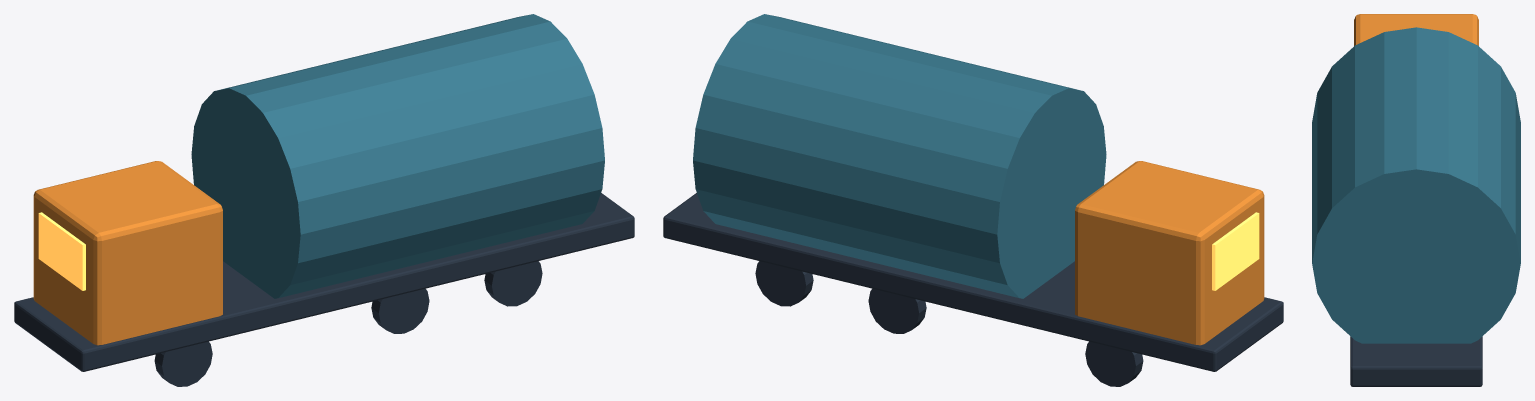
The model's file is bulk-truck-high.glb.
The picture shows the model from 3 angles, left to right: view 1: azimuth 30°, elevation 25°; view 2: azimuth 150°, elevation 25°; view 3: azimuth 270°, elevation 25°; orthographic projection. The views are drawn at different scales.
Parts seen in each view (by area): view 1: bulk_container, bulk_truck_cab, bulk_truck_frame, bulk_truck_windshield, bulk_truck_wheel.004, bulk_truck_wheel, bulk_truck_wheel.002; view 2: bulk_container, bulk_truck_cab, bulk_truck_frame, bulk_truck_windshield, bulk_truck_wheel.005, bulk_truck_wheel.001, bulk_truck_wheel.003; view 3: bulk_container, bulk_truck_frame, bulk_truck_cab.
Part boxes in pixels (x1,y1,x2,y2): bulk_container: (191, 14, 604, 298); bulk_truck_cab: (33, 161, 222, 345); bulk_truck_frame: (14, 193, 634, 371); bulk_truck_windshield: (38, 212, 85, 290); bulk_truck_wheel.004: (484, 261, 542, 306); bulk_truck_wheel: (154, 341, 212, 386); bulk_truck_wheel.002: (371, 288, 429, 333); bulk_container: (693, 14, 1106, 298); bulk_truck_cab: (1075, 161, 1264, 345); bulk_truck_frame: (663, 193, 1283, 371); bulk_truck_windshield: (1212, 212, 1259, 290); bulk_truck_wheel.005: (755, 261, 813, 306); bulk_truck_wheel.001: (1085, 341, 1143, 386); bulk_truck_wheel.003: (868, 288, 926, 333); bulk_container: (1312, 27, 1520, 343); bulk_truck_frame: (1350, 336, 1482, 386); bulk_truck_cab: (1354, 14, 1478, 45).
Bounding box in the file's own units: 12 × 5.05 × 4.1.
